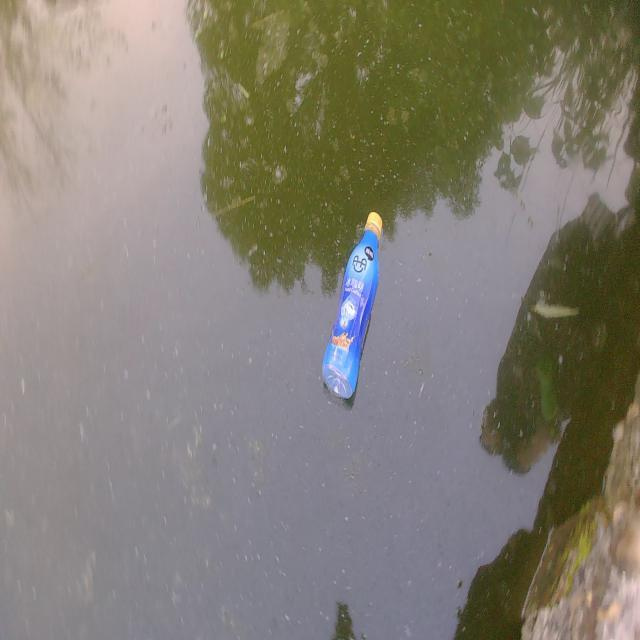bottle: (310, 156, 400, 447)
